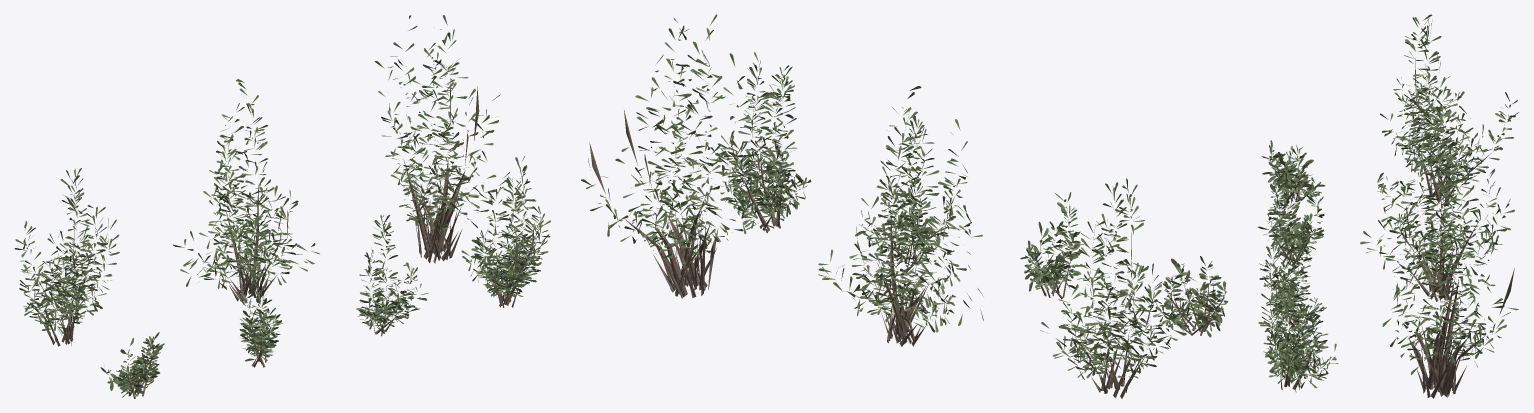
File: bush_tree.glb
3 views of the same model, side by side, from view 1: azimuth 30°, elevation 25°; view 2: azimuth 150°, elevation 25°; view 3: azimuth 270°, elevation 25° (orthographic). The views are drawn at different scales.
Visible parts, largest first — view 1: othonna_cerarioides_a, othonna_cerarioides_b, othonna_cerarioides_c, othonna_cerarioides_d, othonna_cerarioides_e, othonna_cerarioides_f, othonna_cerarioides_g; view 2: othonna_cerarioides_a, othonna_cerarioides_b, othonna_cerarioides_c, othonna_cerarioides_d, othonna_cerarioides_g, othonna_cerarioides_e, othonna_cerarioides_f; view 3: othonna_cerarioides_a, othonna_cerarioides_b, othonna_cerarioides_c, othonna_cerarioides_d, othonna_cerarioides_e, othonna_cerarioides_f, othonna_cerarioides_g.
Boxes of the visible parts, left/top/right/bottom form: othonna_cerarioides_a: left=374, top=15, right=509, bottom=263; othonna_cerarioides_b: left=173, top=79, right=319, bottom=303; othonna_cerarioides_c: left=14, top=168, right=119, bottom=346; othonna_cerarioides_d: left=461, top=156, right=550, bottom=307; othonna_cerarioides_e: left=356, top=215, right=428, bottom=336; othonna_cerarioides_f: left=239, top=280, right=282, bottom=367; othonna_cerarioides_g: left=100, top=332, right=164, bottom=398; othonna_cerarioides_a: left=581, top=14, right=778, bottom=298; othonna_cerarioides_b: left=818, top=86, right=983, bottom=346; othonna_cerarioides_c: left=1040, top=178, right=1187, bottom=398; othonna_cerarioides_d: left=718, top=52, right=811, bottom=233; othonna_cerarioides_g: left=1146, top=256, right=1228, bottom=337; othonna_cerarioides_e: left=855, top=119, right=955, bottom=265; othonna_cerarioides_f: left=1020, top=192, right=1083, bottom=299; othonna_cerarioides_a: left=1378, top=122, right=1518, bottom=398; othonna_cerarioides_b: left=1360, top=55, right=1514, bottom=301; othonna_cerarioides_c: left=1380, top=14, right=1518, bottom=206; othonna_cerarioides_d: left=1258, top=243, right=1338, bottom=392; othonna_cerarioides_e: left=1259, top=197, right=1326, bottom=327; othonna_cerarioides_f: left=1258, top=169, right=1324, bottom=265; othonna_cerarioides_g: left=1262, top=140, right=1325, bottom=202.
Bounding box in the file's own units: 3.97 × 1.93 × 1.77.
Materials: 2 (2 with a texture image).
